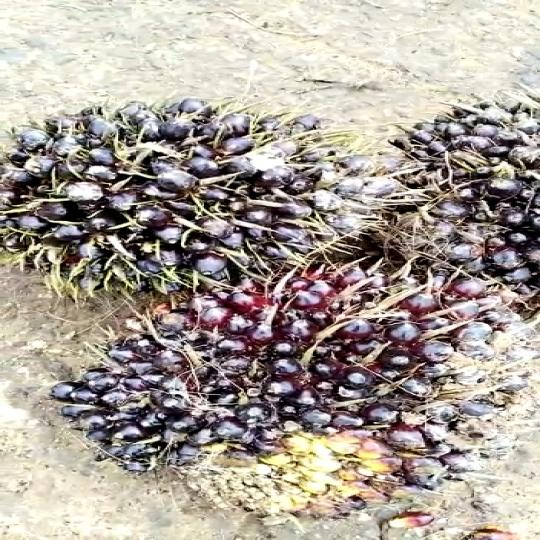mentah: (56, 272, 507, 518), (0, 96, 399, 297)
